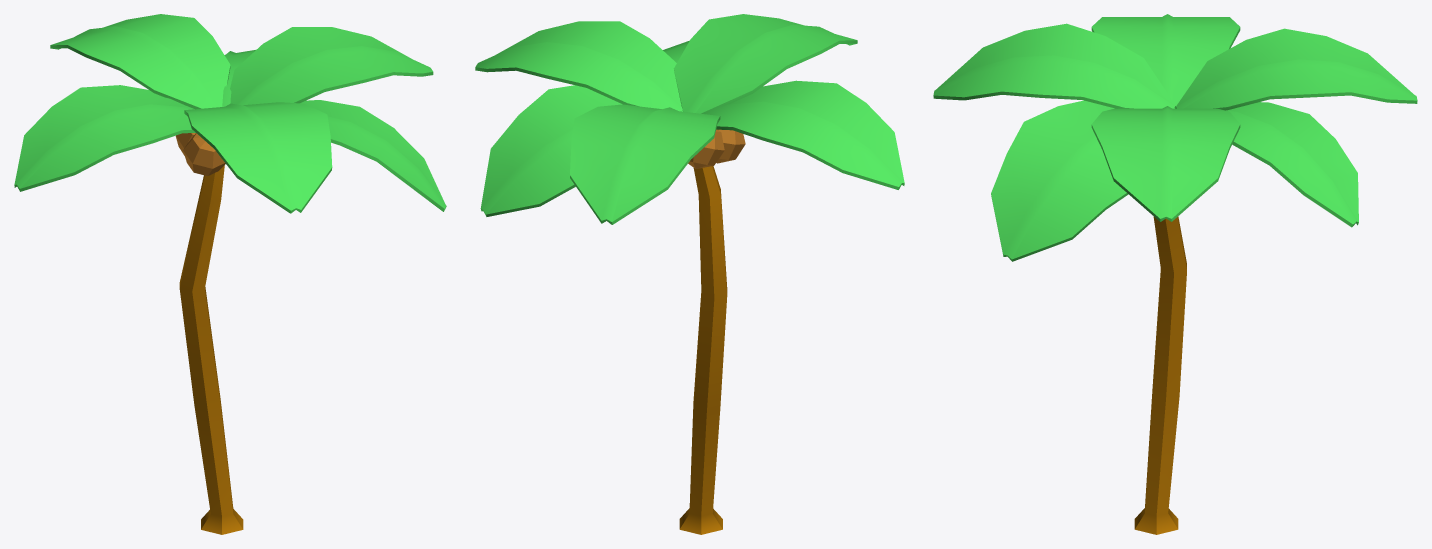
The model's file is Tree9.fbx.
3 views of the same model, side by side, from view 1: azimuth 30°, elevation 25°; view 2: azimuth 150°, elevation 25°; view 3: azimuth 270°, elevation 25° (orthographic). The views are drawn at different scales.
Visible parts, largest first — view 1: pSphere4; view 2: pSphere4; view 3: pSphere4.
Part boxes in pixels (x1,y1,x2,y2): pSphere4: (14, 14, 446, 534); pSphere4: (475, 14, 904, 534); pSphere4: (933, 14, 1417, 534).
Size of the model in its own units: 97.24 by 101 by 95.33.
